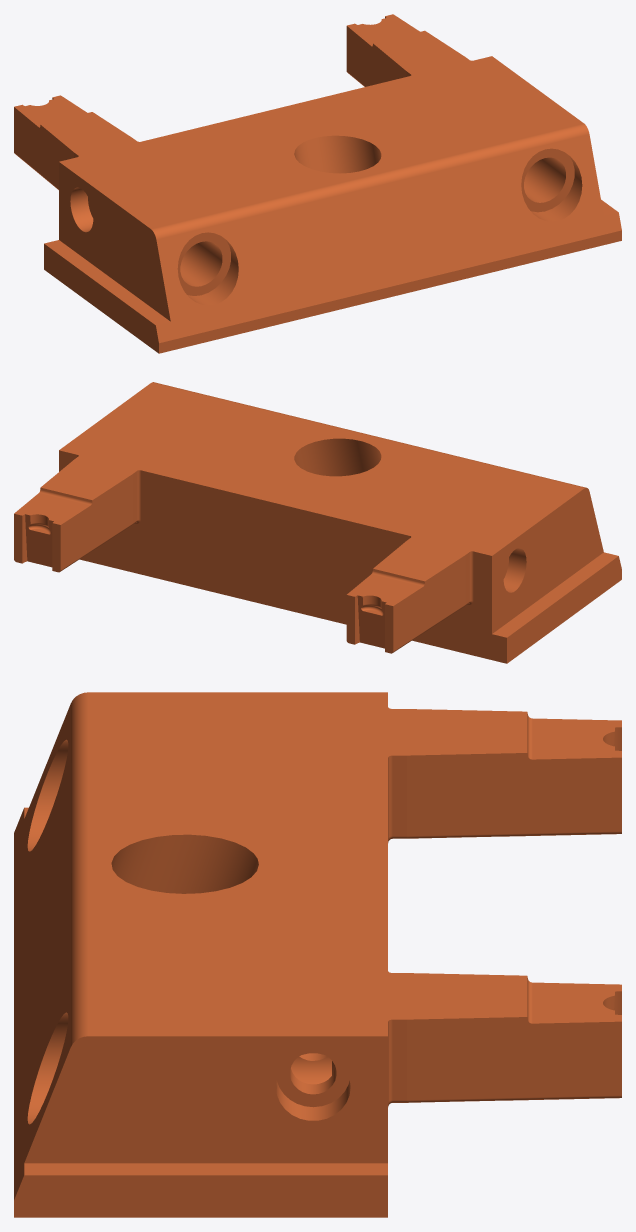
Rendered from mold-3.glb.
3 views of the same model, one above another, from view 1: azimuth 30°, elevation 25°; view 2: azimuth 150°, elevation 25°; view 3: azimuth 270°, elevation 25° (orthographic). The views are drawn at different scales.
Parts seen in each view (by area): view 1: SOLID033.002; view 2: SOLID033.002; view 3: SOLID033.002.
Boxes of the visible parts, x1,y1,x2,y2 form: SOLID033.002: (14,14,621,353); SOLID033.002: (14,382,621,663); SOLID033.002: (14,692,621,1217).
Bounding box in the file's own units: 0.093 × 0.02 × 0.065.
